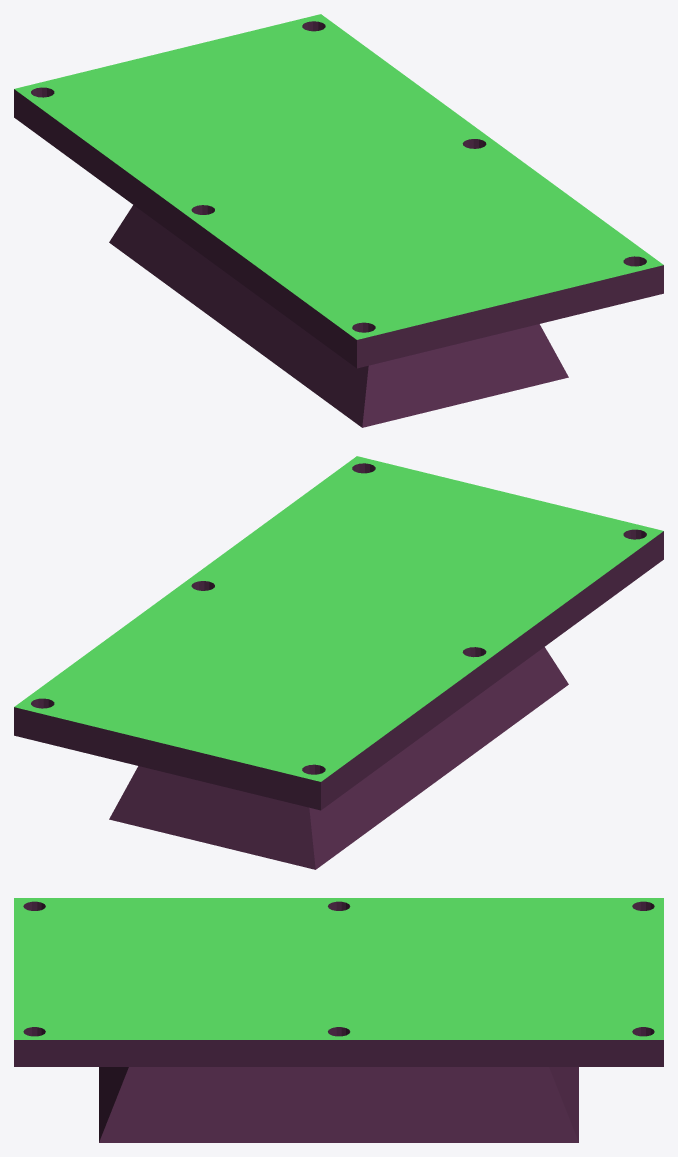
Rendered from table.glb.
3 views of the same model, one above another, from view 1: azimuth 30°, elevation 25°; view 2: azimuth 150°, elevation 25°; view 3: azimuth 270°, elevation 25° (orthographic). The views are drawn at different scales.
Visible parts, largest first — view 1: Cube.007; view 2: Cube.007; view 3: Cube.007.
Boxes of the visible parts, <box> form: Cube.007: <box>14,14,663,427</box>; Cube.007: <box>14,456,663,869</box>; Cube.007: <box>14,898,663,1142</box>.
Size of the model in its own units: 4.87 by 2.02 by 9.43.
